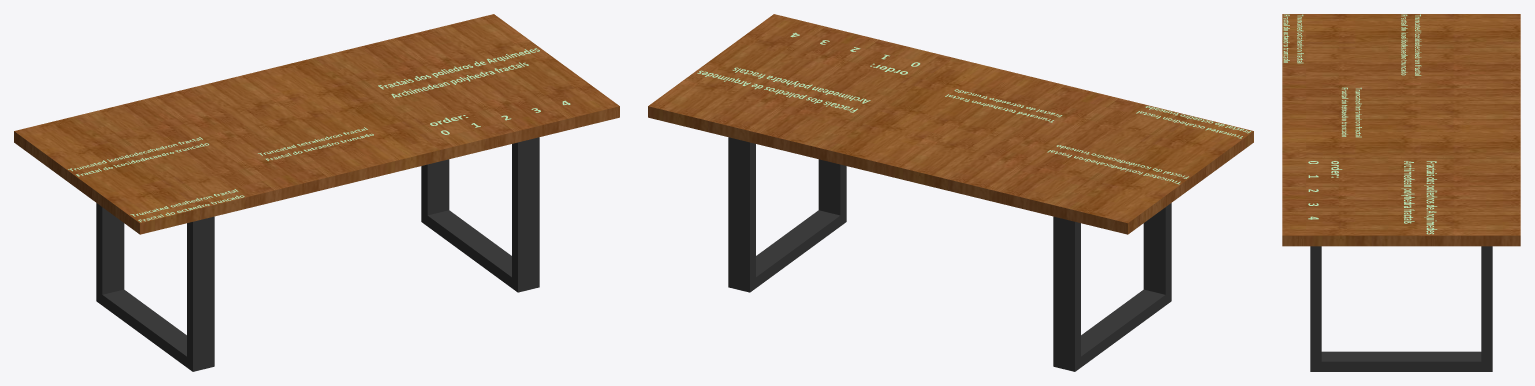
File: fractal_arquim4.glb
3 views of the same model, side by side, from view 1: azimuth 30°, elevation 25°; view 2: azimuth 150°, elevation 25°; view 3: azimuth 270°, elevation 25° (orthographic). The views are drawn at different scales.
Parts seen in each view (by area): view 1: object 1, Composant#1 (×2), Fractais dos pol#2, Truncated icosid, Truncated tetrah, Truncated octahe; view 2: object 1, Composant#1 (×2), Fractais dos pol#2, Truncated icosid, Truncated octahe; view 3: object 1, Composant#1, Fractais dos pol#2, Truncated icosid, Truncated tetrah, Truncated octahe.
Boxes of the visible parts, bbox=[...] form: object 1: bbox=[14, 14, 619, 234]; Composant#1 (×2): bbox=[96, 137, 539, 371]; Fractais dos pol#2: bbox=[378, 48, 539, 98]; Truncated icosid: bbox=[68, 137, 208, 176]; Truncated tetrah: bbox=[258, 127, 373, 160]; Truncated octahe: bbox=[130, 189, 244, 222]; object 1: bbox=[648, 14, 1253, 234]; Composant#1 (×2): bbox=[728, 137, 1171, 371]; Fractais dos pol#2: bbox=[697, 67, 870, 112]; Truncated icosid: bbox=[1047, 145, 1188, 184]; Truncated octahe: bbox=[1136, 106, 1250, 138]; object 1: bbox=[1282, 14, 1520, 246]; Composant#1: bbox=[1310, 246, 1492, 371]; Fractais dos pol#2: bbox=[1401, 161, 1437, 234]; Truncated icosid: bbox=[1401, 14, 1421, 75]; Truncated tetrah: bbox=[1341, 87, 1361, 137]; Truncated octahe: bbox=[1283, 14, 1303, 63].
Bounding box in the file's own units: 2.2 × 0.7711 × 1.
3 materials, 1 textured.
